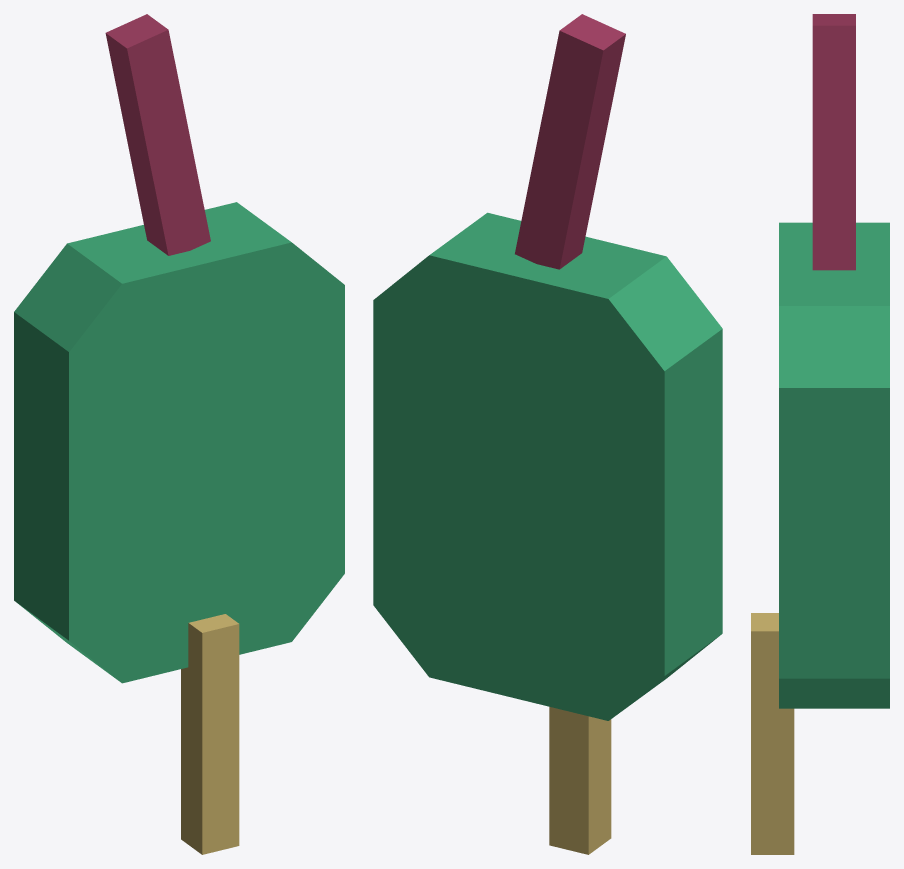
Rendered from jade_tablet.obj.
3 views of the same model, side by side, from view 1: azimuth 30°, elevation 25°; view 2: azimuth 150°, elevation 25°; view 3: azimuth 270°, elevation 25° (orthographic). The views are drawn at different scales.
Visible parts, largest first — view 1: sword_tablet, sword_tablet_edge, tablet_wrap, tablet_edge, tablet_edge_edge, tablet_wrap_edge; view 2: sword_tablet, sword_tablet_edge, tablet_wrap, tablet_wrap_edge, tablet_edge, tablet_edge_edge; view 3: sword_tablet_edge, tablet_wrap_edge, tablet_edge_edge.
Boxes of the visible parts, x1,y1,x2,y2 form: sword_tablet: (69, 242, 344, 683); sword_tablet_edge: (14, 202, 291, 680); tablet_wrap: (127, 30, 210, 255); tablet_edge: (202, 624, 239, 854); tablet_edge_edge: (181, 614, 238, 854); tablet_wrap_edge: (105, 14, 168, 255); sword_tablet: (373, 255, 664, 720); sword_tablet_edge: (429, 212, 722, 718); tablet_wrap: (515, 30, 603, 269); tablet_wrap_edge: (559, 14, 625, 268); tablet_edge: (549, 707, 588, 854); tablet_edge_edge: (588, 716, 611, 854); sword_tablet_edge: (779, 222, 889, 708); tablet_wrap_edge: (812, 14, 855, 270); tablet_edge_edge: (751, 613, 794, 854).
Size of the model in its own units: 0.26 by 0.7239 by 0.1125.
